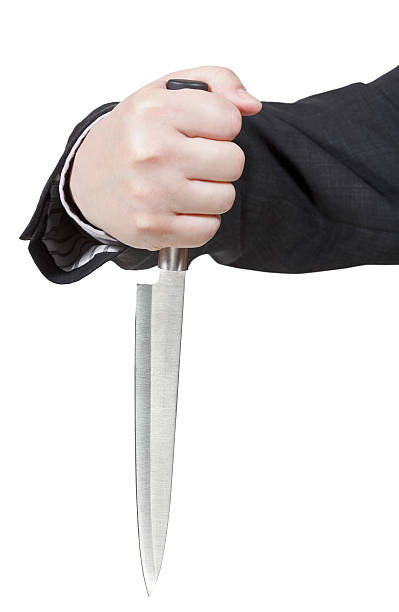knife: (130, 247, 189, 601)
